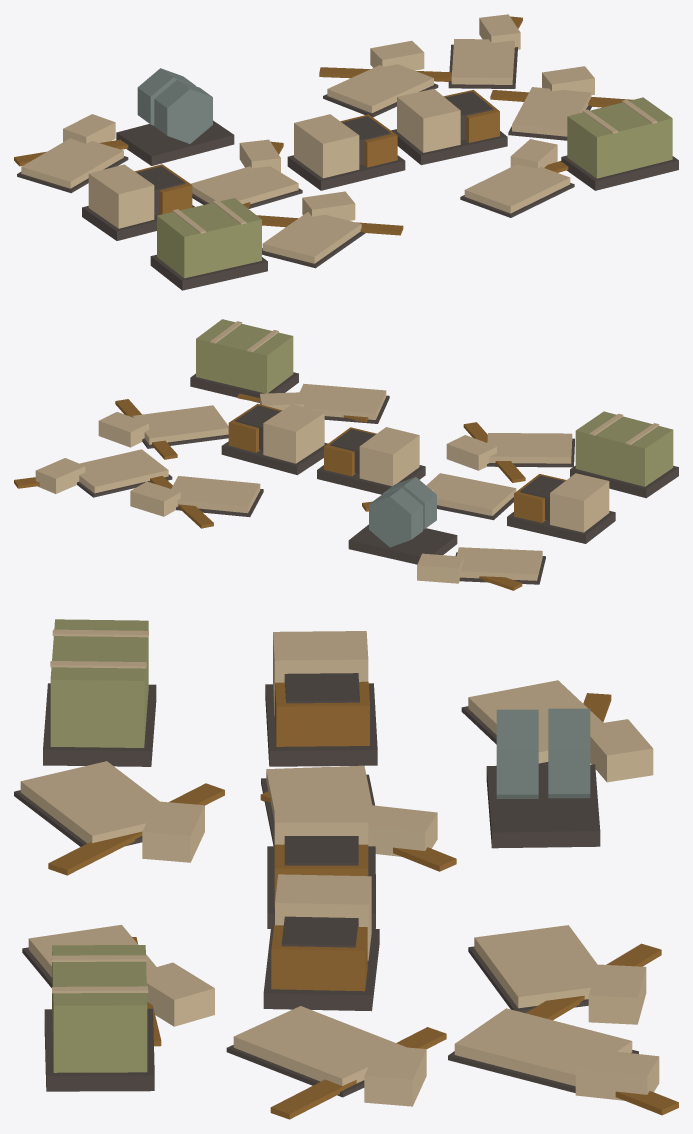
The model's file is SM_AcopioMateriales_v3_Saqueado_LOD1.fbx.
The picture shows the model from 3 angles, top to bottom: view 1: azimuth 30°, elevation 25°; view 2: azimuth 150°, elevation 25°; view 3: azimuth 270°, elevation 25°; orthographic projection. The views are drawn at different scales.
Visible parts, largest first — view 1: SM_acopio_carga_v13_LOD1; view 2: SM_acopio_carga_v13_LOD1; view 3: SM_acopio_carga_v13_LOD1.
Boxes of the visible parts, bbox=[...] form: SM_acopio_carga_v13_LOD1: bbox=[14, 14, 678, 290]; SM_acopio_carga_v13_LOD1: bbox=[14, 319, 678, 590]; SM_acopio_carga_v13_LOD1: bbox=[14, 619, 678, 1119].
Bounding box in the file's own units: 8.24 × 0.94 × 5.39.
